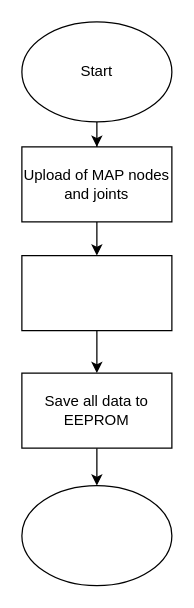
Image size: 194x608. Some labels were removed from this diagram. Here are the shapes that lost their labels. From the top down, the centre of each, then its label:
At pixel 96 292: "Upload requirements".
At pixel 96 535: "END".
